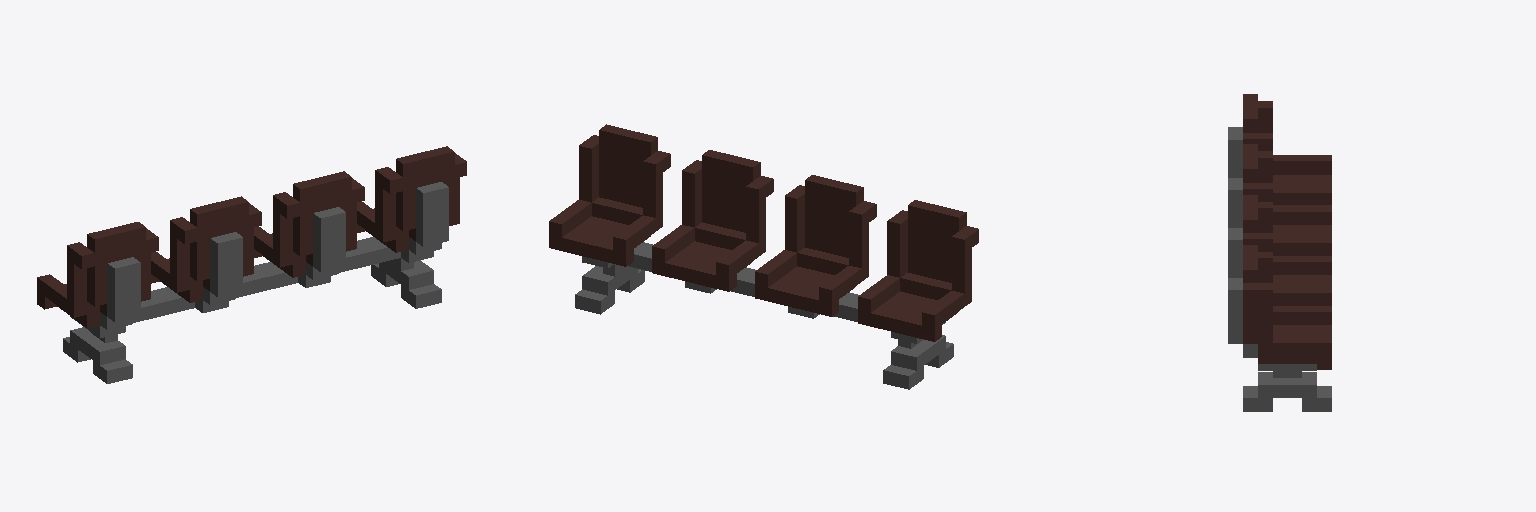
The picture shows the model from 3 angles: view 1: azimuth 30°, elevation 25°; view 2: azimuth 150°, elevation 25°; view 3: azimuth 270°, elevation 25°; orthographic projection.
Visible parts, largest first — view 1: object 1; view 2: object 1; view 3: object 1.
Part boxes in pixels (bbox=[...]): object 1: bbox=[37, 146, 466, 383]; object 1: bbox=[549, 124, 978, 389]; object 1: bbox=[1228, 94, 1331, 411].
Size of the model in its own units: 3 by 1.1 by 0.7.
Materials: 1 (1 with a texture image).